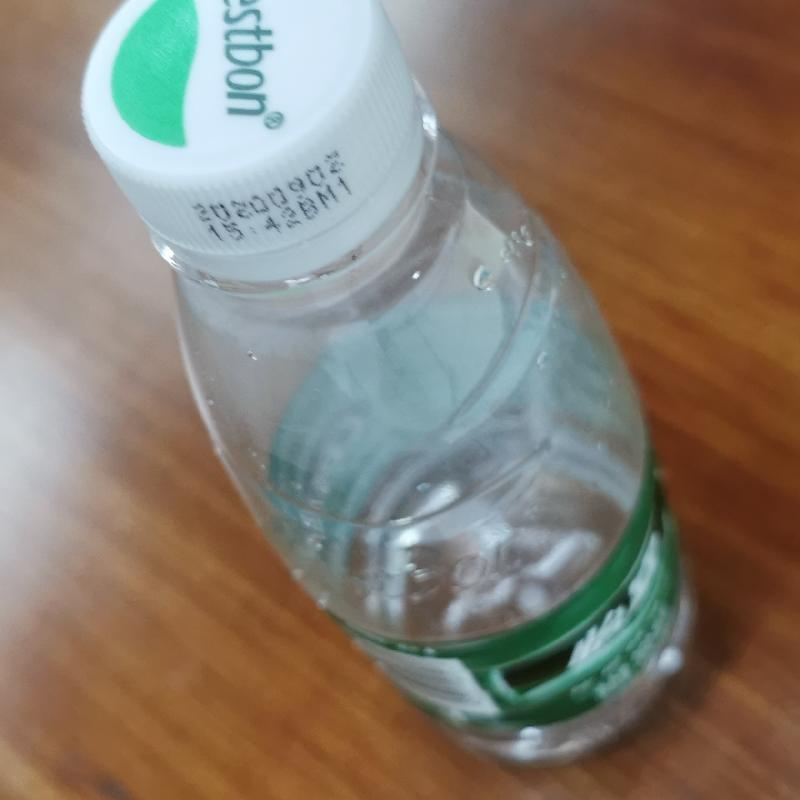bottles: (73, 2, 701, 767)
